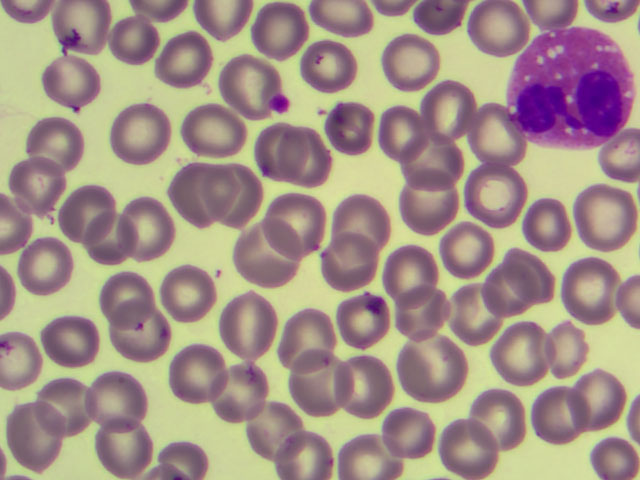Platelets: (273, 95, 287, 109)
RBC: (286, 421, 342, 480), (335, 421, 391, 480), (41, 53, 97, 111), (103, 12, 159, 70), (157, 30, 213, 88), (213, 55, 269, 113), (255, 3, 311, 61), (299, 35, 355, 93), (380, 33, 436, 91), (467, 100, 523, 158), (426, 77, 482, 135), (373, 102, 429, 160), (406, 132, 462, 190), (400, 174, 456, 232), (464, 164, 520, 222), (516, 193, 572, 251), (572, 188, 628, 246), (565, 257, 621, 315), (495, 246, 551, 304), (479, 265, 535, 323), (445, 283, 501, 341), (437, 225, 493, 283), (391, 284, 447, 342), (380, 247, 436, 305), (321, 235, 377, 293), (330, 191, 386, 249), (269, 190, 325, 248), (242, 227, 298, 285), (245, 122, 301, 180), (295, 134, 351, 192), (321, 97, 377, 155), (190, 107, 246, 165), (117, 107, 173, 165), (25, 113, 81, 171), (11, 156, 67, 214), (58, 181, 114, 239), (84, 212, 140, 270), (119, 191, 175, 249), (159, 258, 215, 316), (116, 298, 172, 356), (90, 276, 146, 334), (38, 307, 94, 365), (4, 331, 60, 389), (20, 237, 76, 295), (89, 365, 145, 423), (43, 370, 99, 428), (3, 415, 59, 473), (94, 420, 150, 478), (161, 344, 217, 402), (216, 360, 272, 418), (220, 299, 276, 357), (272, 304, 328, 362), (292, 358, 348, 416), (333, 359, 389, 417), (244, 392, 300, 450), (371, 401, 427, 459), (401, 339, 457, 397), (434, 418, 490, 476), (461, 386, 517, 444), (494, 323, 550, 381), (535, 318, 591, 376), (528, 385, 584, 443), (571, 366, 627, 424), (468, 1, 524, 58)
WBC: (511, 30, 634, 149)
